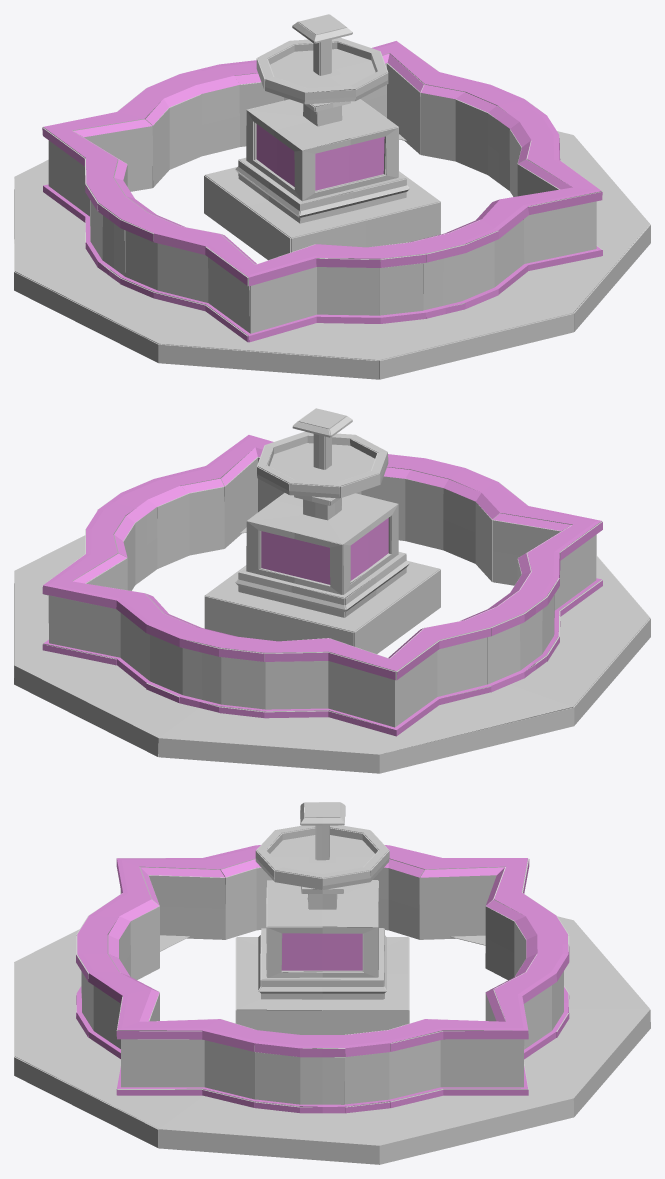
File: Fontan.fbx
The picture shows the model from 3 angles, top to bottom: view 1: azimuth 30°, elevation 25°; view 2: azimuth 150°, elevation 25°; view 3: azimuth 270°, elevation 25°; orthographic projection.
Parts seen in each view (by area): view 1: Cube.002; view 2: Cube.002; view 3: Cube.002.
Part boxes in pixels (x1=…): Cube.002: x1=14, y1=14, x2=650, y2=379; Cube.002: x1=14, y1=408, x2=650, y2=773; Cube.002: x1=14, y1=802, x2=650, y2=1164.
Size of the model in its own units: 584 by 218 by 576.
